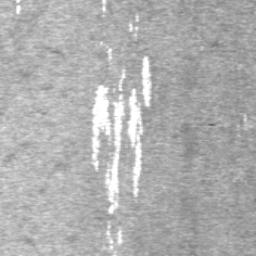White rust: (91, 85, 125, 214), (127, 88, 143, 197), (142, 57, 151, 107), (118, 70, 125, 91), (117, 229, 122, 244), (15, 5, 21, 15), (108, 48, 112, 60)
